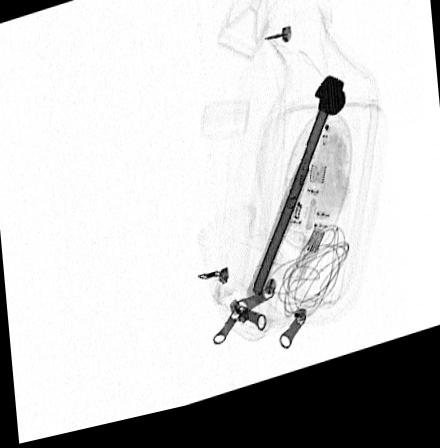Hammer: (245, 88, 346, 313)
